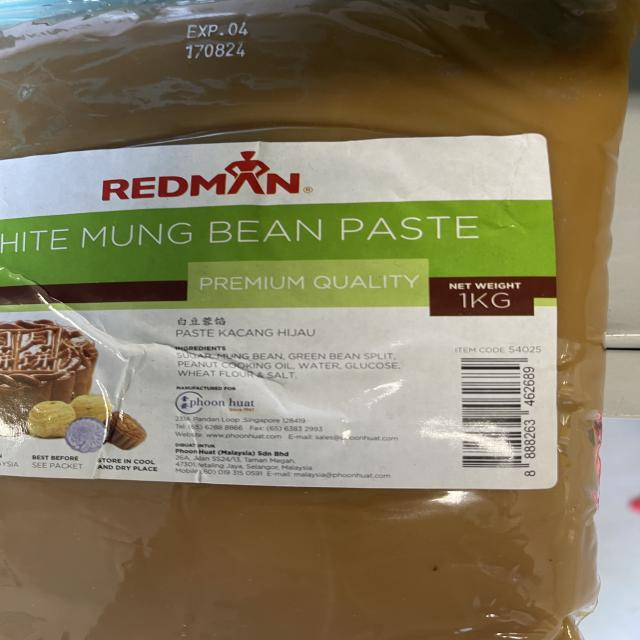object_name: (4, 5, 579, 640)
